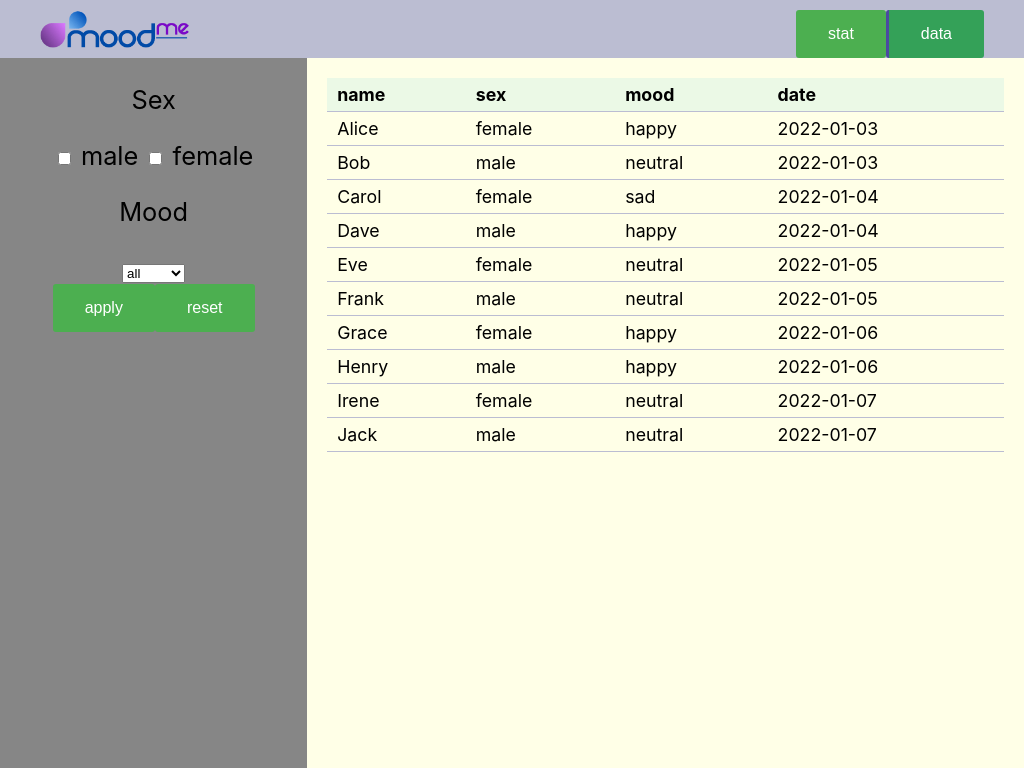
Scenario: switches to the stat view from the header
Click the button labelled "stat" at (841, 34), box [796,10,886,58]
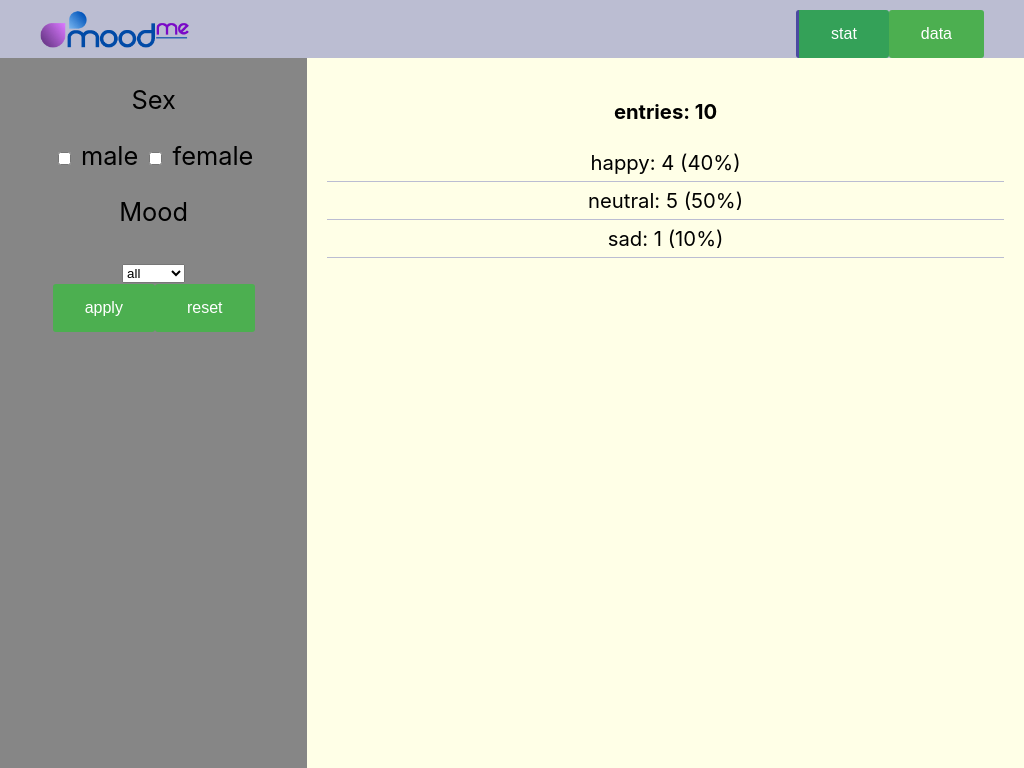
Now the text "entries: 10" is shown, box [614,99,717,124]
Now the list item "happy: 4 (40%)" is shown, box [327,144,1004,182]
Now the list item "neutral: 5 (50%)" is shown, box [327,182,1004,220]
